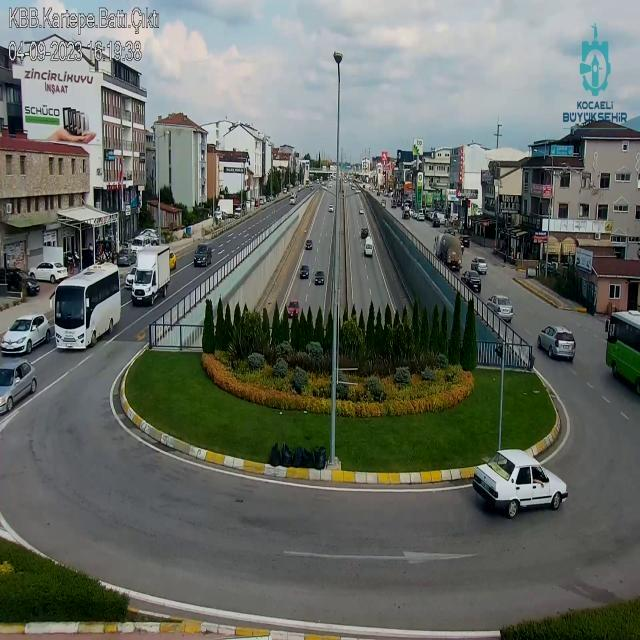Bus: (50, 258, 122, 354), (603, 308, 640, 392)
Car: (469, 448, 568, 520), (0, 358, 37, 414), (1, 312, 50, 354), (536, 324, 578, 363), (1, 267, 41, 296), (486, 293, 514, 324), (28, 261, 68, 280), (192, 244, 214, 266), (461, 269, 481, 293), (284, 300, 300, 319), (124, 268, 136, 290), (470, 258, 487, 273), (169, 253, 179, 270), (314, 270, 325, 284), (299, 265, 309, 280), (402, 208, 412, 221), (304, 238, 313, 252), (432, 216, 439, 227), (288, 196, 295, 206), (417, 212, 424, 222), (327, 205, 335, 213), (358, 208, 365, 215)
Truck: (130, 245, 172, 305), (434, 234, 462, 272)
Van: (360, 236, 374, 258)
